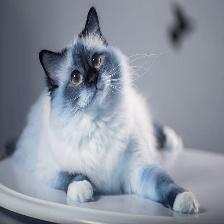kedo: (40, 6, 198, 214)
